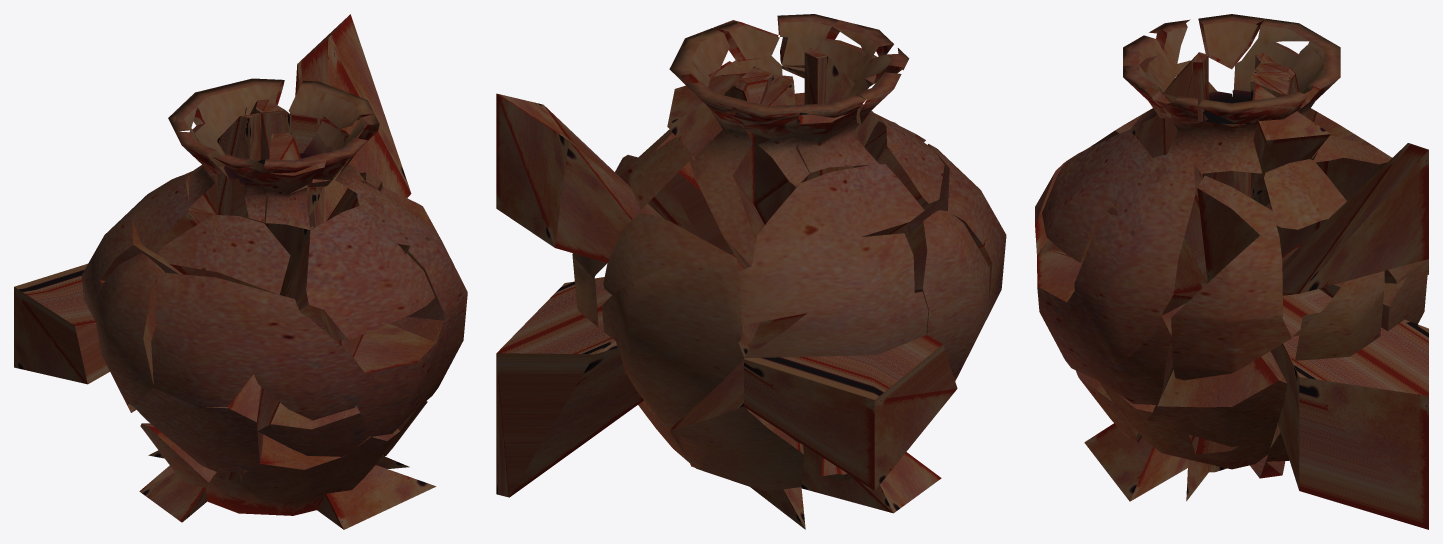
File: vase2.2.fbx
3 renders of one model, left to right at view 1: azimuth 30°, elevation 25°; view 2: azimuth 150°, elevation 25°; view 3: azimuth 270°, elevation 25°, orthographic. The views are drawn at different scales.
Visible parts, largest first — view 1: vase2.2 (1)_cell.076, vase2.2 (1)_cell.077, vase2.2 (1)_cell.051, vase2.2 (1)_cell.022, vase2.2 (1)_cell.072, vase2.2 (1)_cell.068, vase2.2 (1)_cell.053, vase2.2 (1)_cell.062, vase2.2 (1)_cell.049, vase2.2 (1)_cell.070, vase2.2 (1)_cell.052, vase2.2 (1)_cell.078 (+30 smaller); view 2: vase2.2 (1)_cell.051, vase2.2 (1)_cell.015, vase2.2 (1)_cell.031, vase2.2 (1)_cell.022, vase2.2 (1)_cell.011, vase2.2 (1)_cell.013, vase2.2 (1)_cell.053, vase2.2 (1)_cell.066, vase2.2 (1)_cell.075, vase2.2 (1)_cell.035, vase2.2 (1)_cell.070, vase2.2 (1)_cell.040 (+32 smaller); view 3: vase2.2 (1)_cell.015, vase2.2 (1)_cell.022, vase2.2 (1)_cell.032, vase2.2 (1)_cell.041, vase2.2 (1)_cell.061, vase2.2 (1)_cell.043, vase2.2 (1)_cell.074, vase2.2 (1)_cell.064, vase2.2 (1)_cell.024, vase2.2 (1)_cell.076, vase2.2 (1)_cell.003, vase2.2 (1)_cell.017 (+33 smaller).
Boxes of the visible parts, <box> form: vase2.2 (1)_cell.076: <box>286,206,404,328</box>; vase2.2 (1)_cell.077: <box>155,272,314,354</box>; vase2.2 (1)_cell.051: <box>14,263,109,384</box>; vase2.2 (1)_cell.022: <box>295,14,411,229</box>; vase2.2 (1)_cell.072: <box>133,374,264,473</box>; vase2.2 (1)_cell.068: <box>248,298,364,420</box>; vase2.2 (1)_cell.053: <box>94,253,166,405</box>; vase2.2 (1)_cell.062: <box>151,325,272,407</box>; vase2.2 (1)_cell.049: <box>321,324,441,436</box>; vase2.2 (1)_cell.070: <box>158,214,290,294</box>; vase2.2 (1)_cell.052: <box>319,253,435,340</box>; vase2.2 (1)_cell.078: <box>257,390,409,456</box>; vase2.2 (1)_cell.051: <box>744,335,957,490</box>; vase2.2 (1)_cell.015: <box>496,277,643,497</box>; vase2.2 (1)_cell.031: <box>602,258,760,429</box>; vase2.2 (1)_cell.022: <box>496,93,663,262</box>; vase2.2 (1)_cell.011: <box>724,233,914,325</box>; vase2.2 (1)_cell.013: <box>752,164,924,265</box>; vase2.2 (1)_cell.053: <box>906,210,989,377</box>; vase2.2 (1)_cell.066: <box>670,359,803,491</box>; vase2.2 (1)_cell.075: <box>745,291,928,358</box>; vase2.2 (1)_cell.035: <box>603,213,742,341</box>; vase2.2 (1)_cell.070: <box>853,119,944,234</box>; vase2.2 (1)_cell.040: <box>690,159,764,269</box>; vase2.2 (1)_cell.015: <box>1270,288,1428,529</box>; vase2.2 (1)_cell.022: <box>1282,143,1428,295</box>; vase2.2 (1)_cell.032: <box>1074,214,1206,365</box>; vase2.2 (1)_cell.041: <box>1148,351,1287,446</box>; vase2.2 (1)_cell.061: <box>1054,265,1186,404</box>; vase2.2 (1)_cell.043: <box>1112,154,1207,284</box>; vase2.2 (1)_cell.074: <box>1171,235,1282,322</box>; vase2.2 (1)_cell.064: <box>1171,317,1291,380</box>; vase2.2 (1)_cell.024: <box>1197,175,1279,282</box>; vase2.2 (1)_cell.076: <box>1048,130,1152,215</box>; vase2.2 (1)_cell.003: <box>1264,159,1346,229</box>; vase2.2 (1)_cell.017: <box>1084,423,1188,501</box>.
Bounding box in the file's own units: 17624 × 17850 × 16757.
